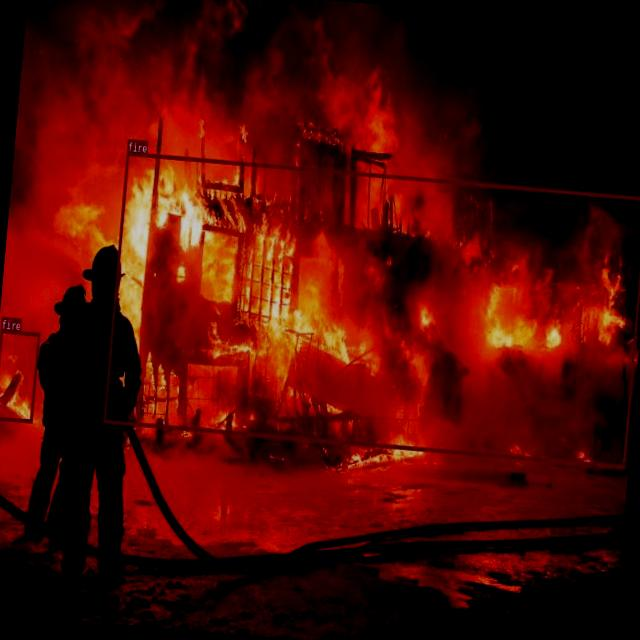fire: (102, 150, 640, 468), (0, 328, 39, 422)
